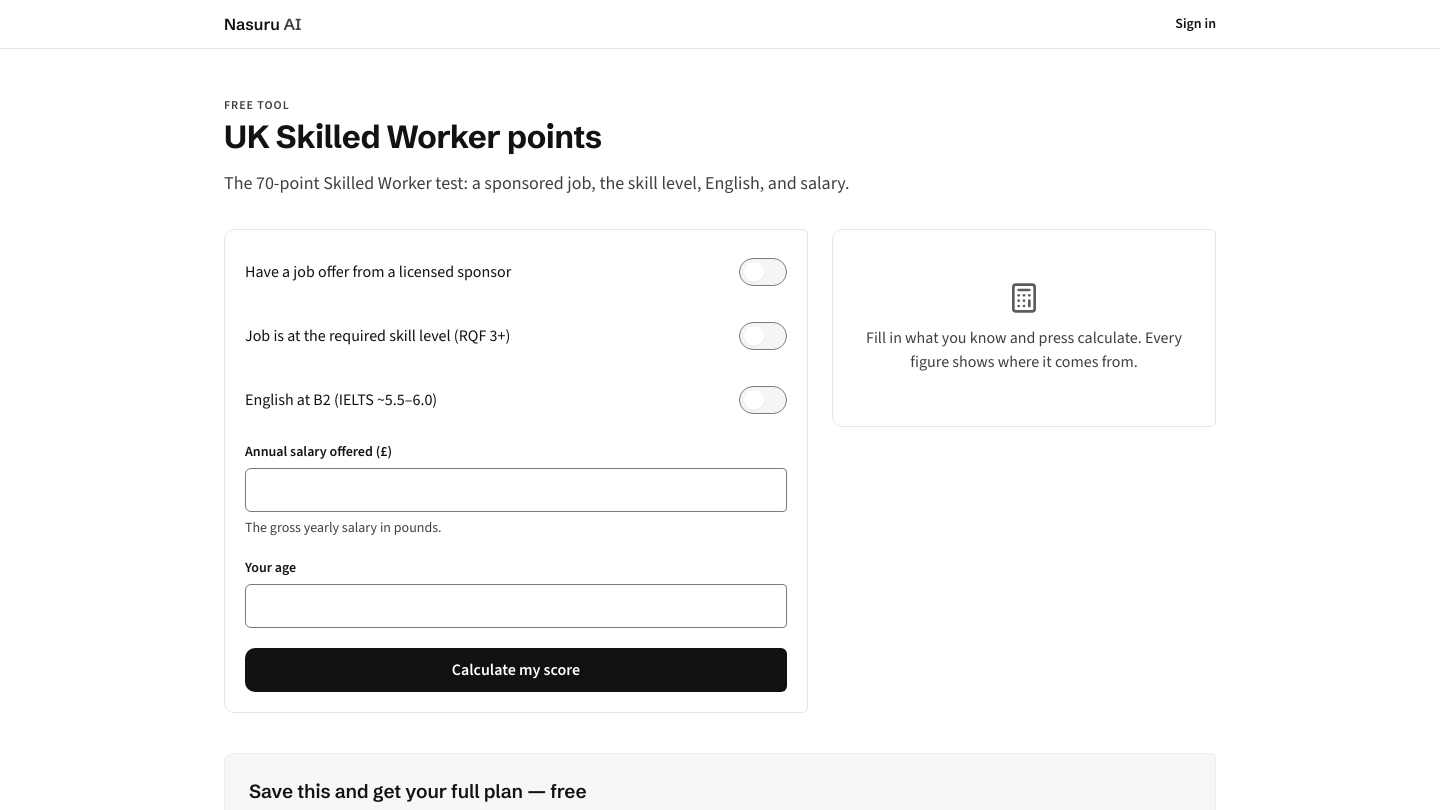
PointsToolView › posts typed inputs and shows the score with its source
The image size is (1440, 810).
Click the button "Calculate my score" at (516, 670), box top-left (245, 648), bottom-right (787, 692)
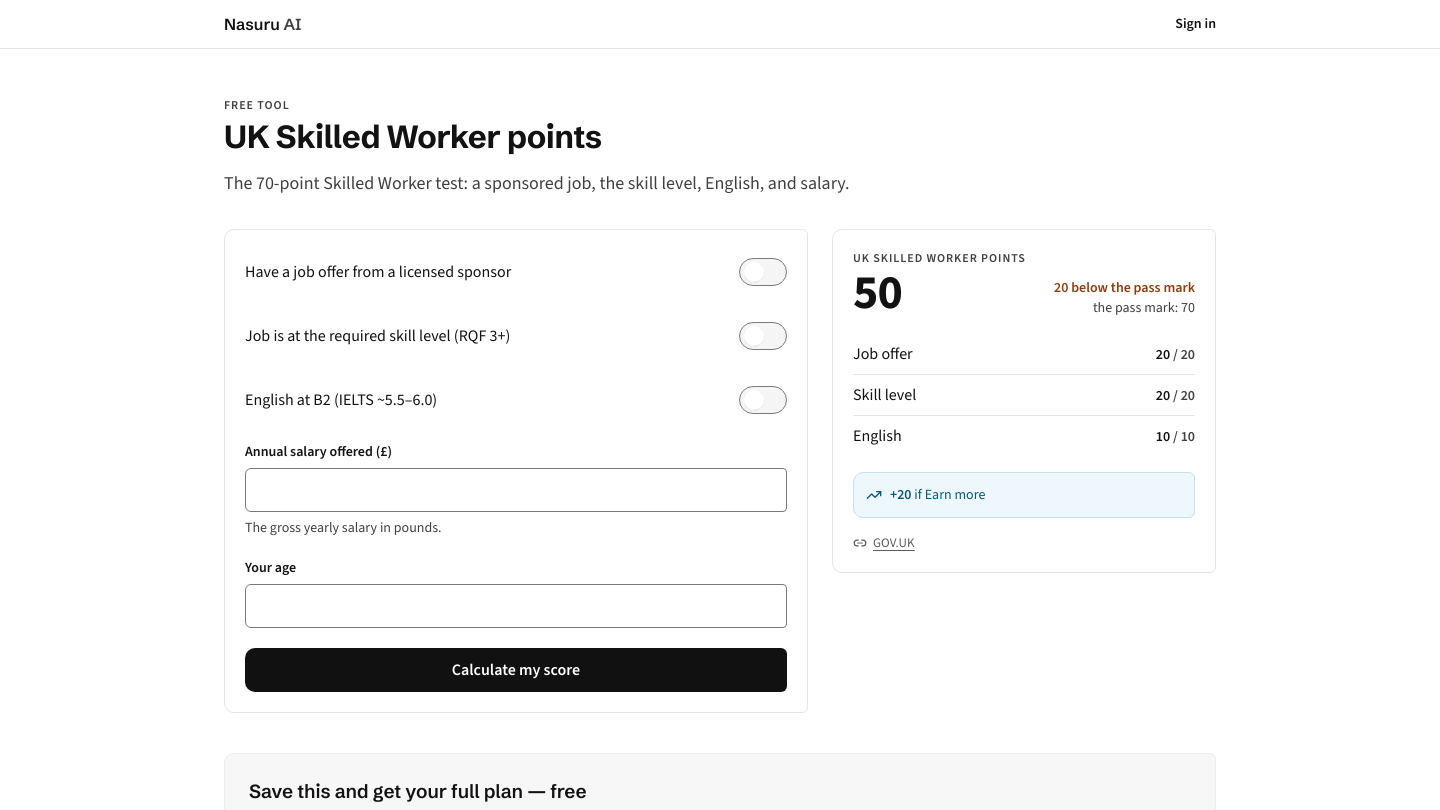
Result: the text "50" is shown at top-left (853, 260), bottom-right (902, 324)
Result: the text "20 below the pass mark" is shown at top-left (1054, 278), bottom-right (1195, 298)
Result: the text "+20 if Earn more" is shown at top-left (890, 485), bottom-right (985, 505)
